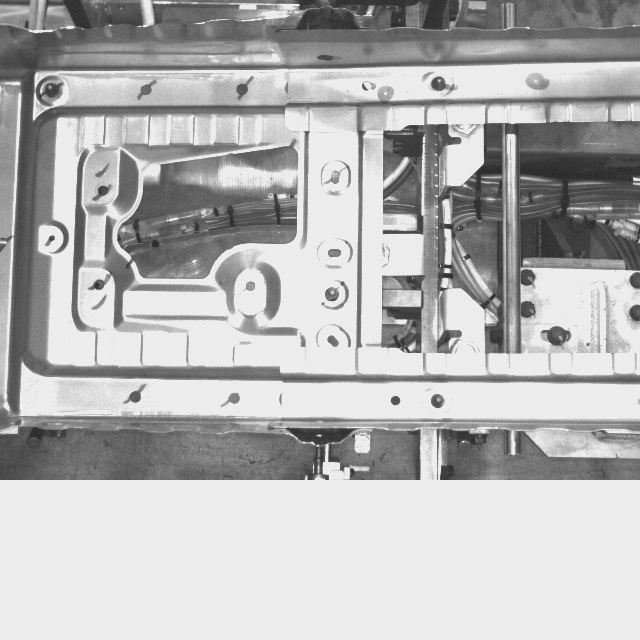base: (378, 211, 427, 309)
ng: (354, 73, 380, 98), (382, 388, 408, 412), (87, 272, 111, 296), (90, 179, 114, 202), (237, 274, 262, 296)
